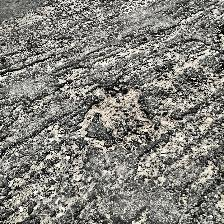pothole: (84, 82, 154, 146)
